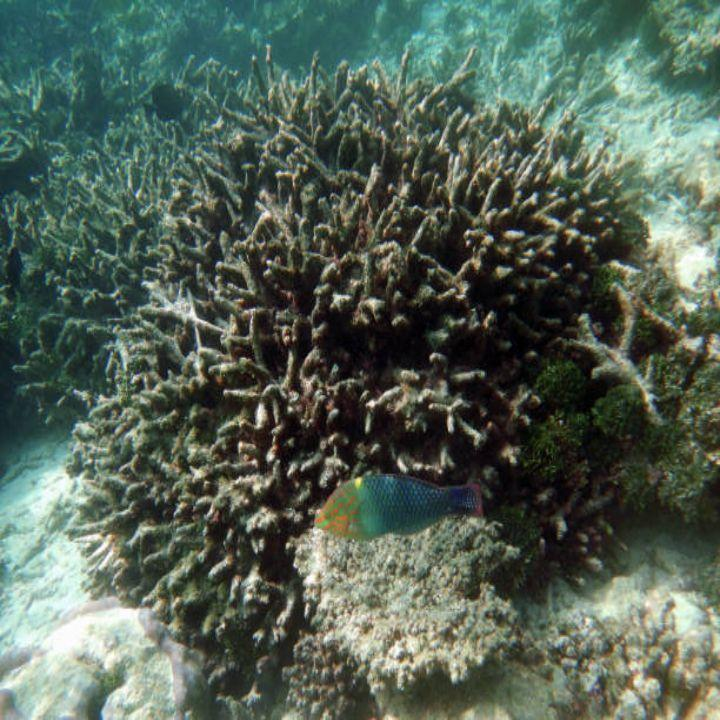Dead Coral: (23, 57, 667, 660)
